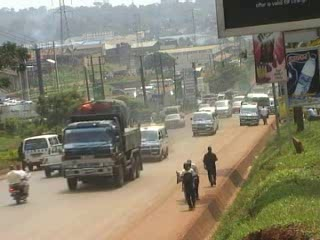Car: (162, 111, 189, 128), (215, 98, 234, 117), (230, 101, 244, 115)
Motorcycle: (4, 163, 32, 205)
